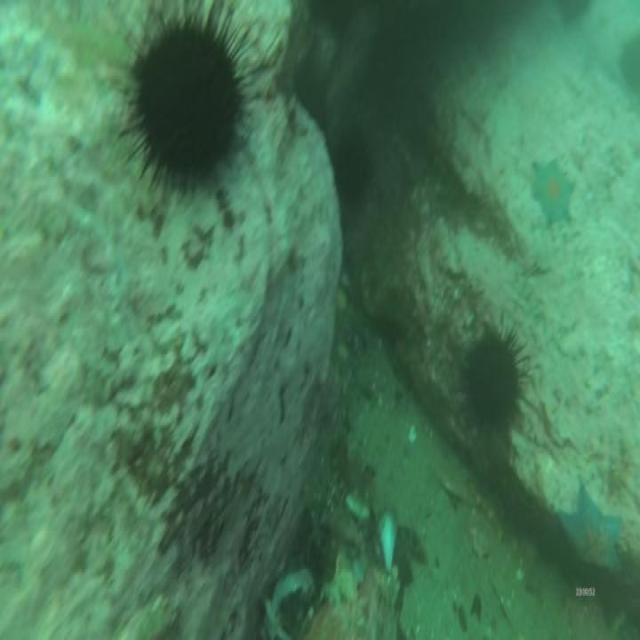scallop: (135, 22, 242, 182), (468, 331, 520, 428), (335, 133, 366, 210)
starfish: (556, 481, 622, 574), (530, 162, 575, 228)
